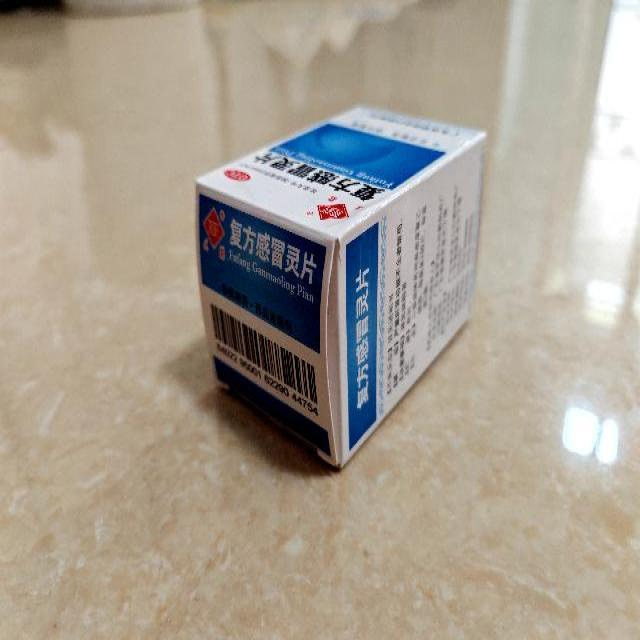box: (195, 104, 489, 467)
